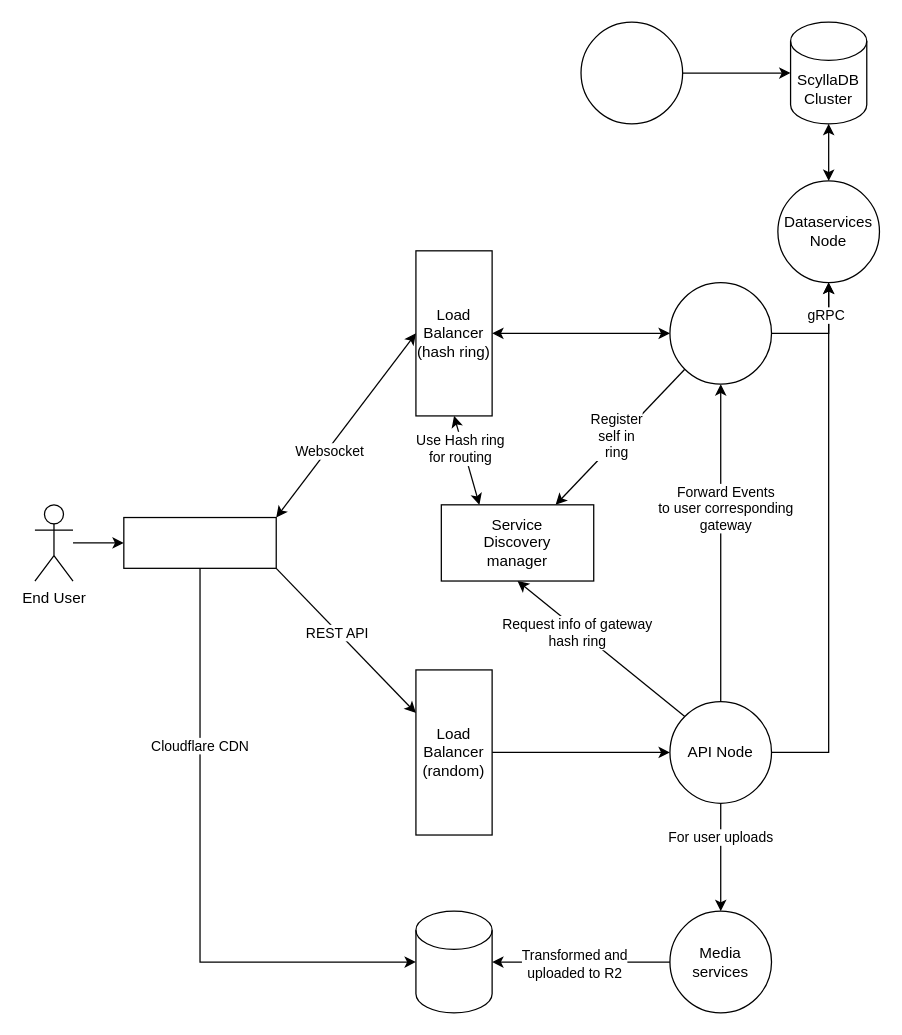
The diagram is 902 pixels wide and 1035 high, and some of its shapes have lost their labels. The centre of each missing label's shape, as x and y in pixels:
"Cloudflare R2 CDN" belongs at pixel 453 961.
"Garbage Collector" belongs at pixel 631 72.
"Gateway Node" belongs at pixel 720 332.
"WebApp Frontend client" belongs at pixel 199 542.
